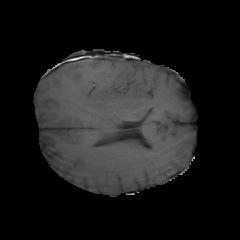glioma: (70, 66, 137, 116)
